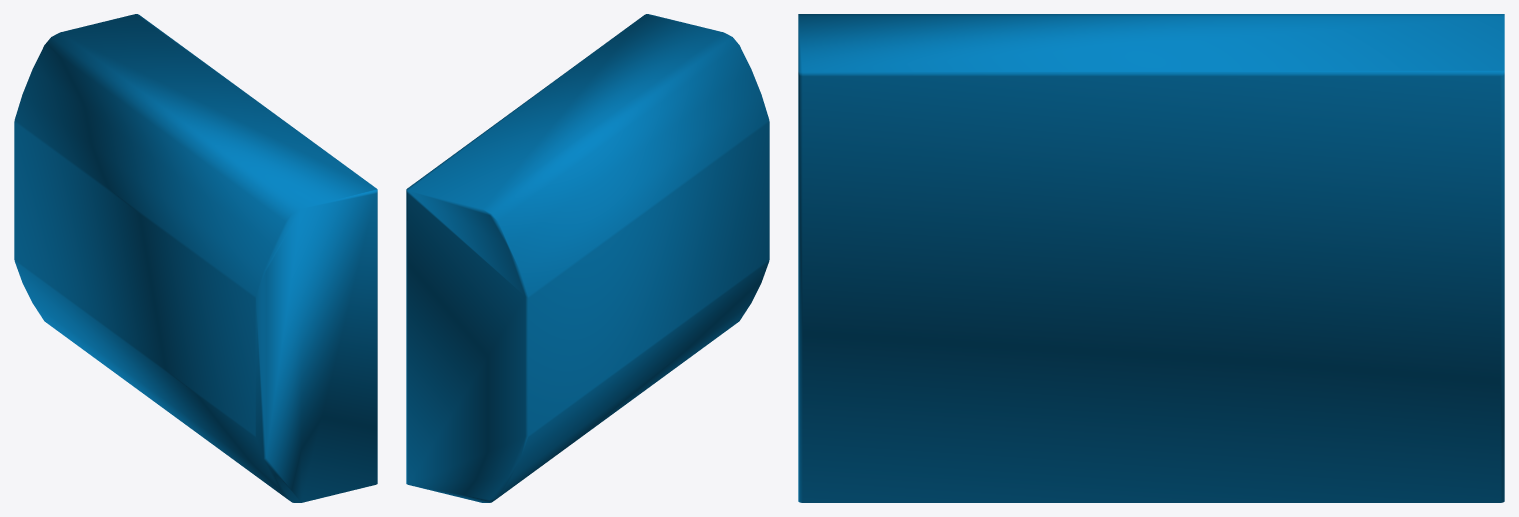
Rendered from torso_fixed_link.obj.
3 views of the same model, side by side, from view 1: azimuth 30°, elevation 25°; view 2: azimuth 150°, elevation 25°; view 3: azimuth 270°, elevation 25° (orthographic). The views are drawn at different scales.
Size of the model in its own units: 0.1362 by 0.3107 by 0.4619.
1 material, 1 textured.
